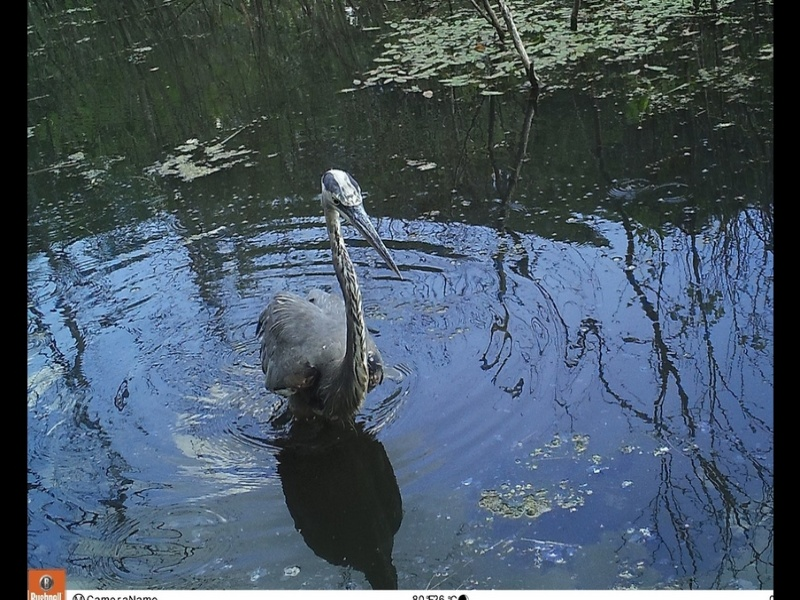heron: (249, 162, 405, 438)
